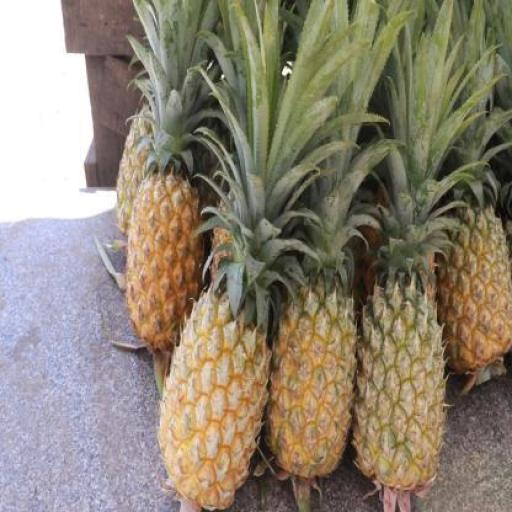------------------------------: (356, 282, 446, 487)
Pineapple - v8 v1: (160, 297, 266, 505), (269, 295, 357, 488), (128, 173, 202, 360), (439, 212, 512, 374)
